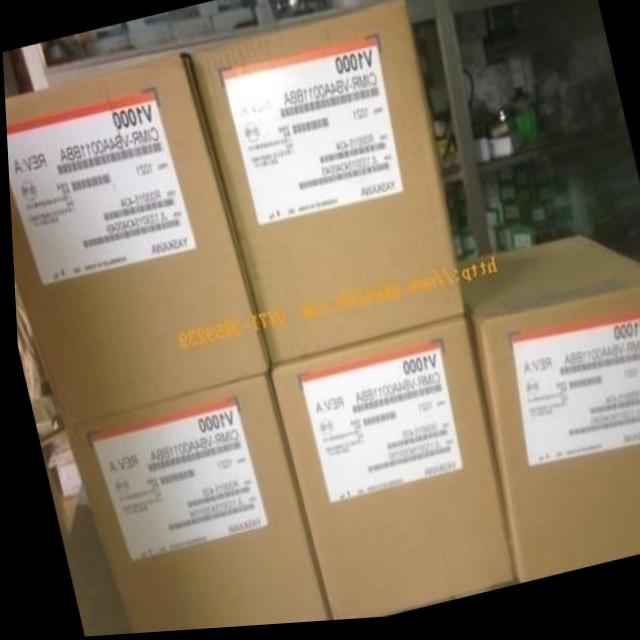box: (185, 0, 463, 367), (4, 53, 265, 426), (265, 317, 509, 624), (59, 372, 324, 635), (454, 240, 640, 589)
